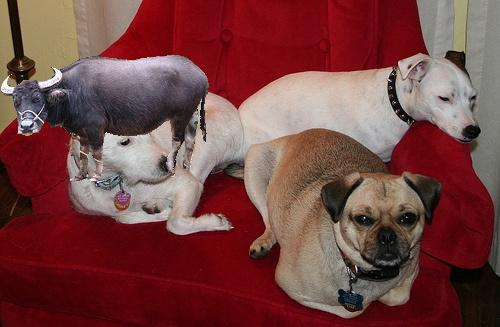tampered: (2, 56, 209, 181)
